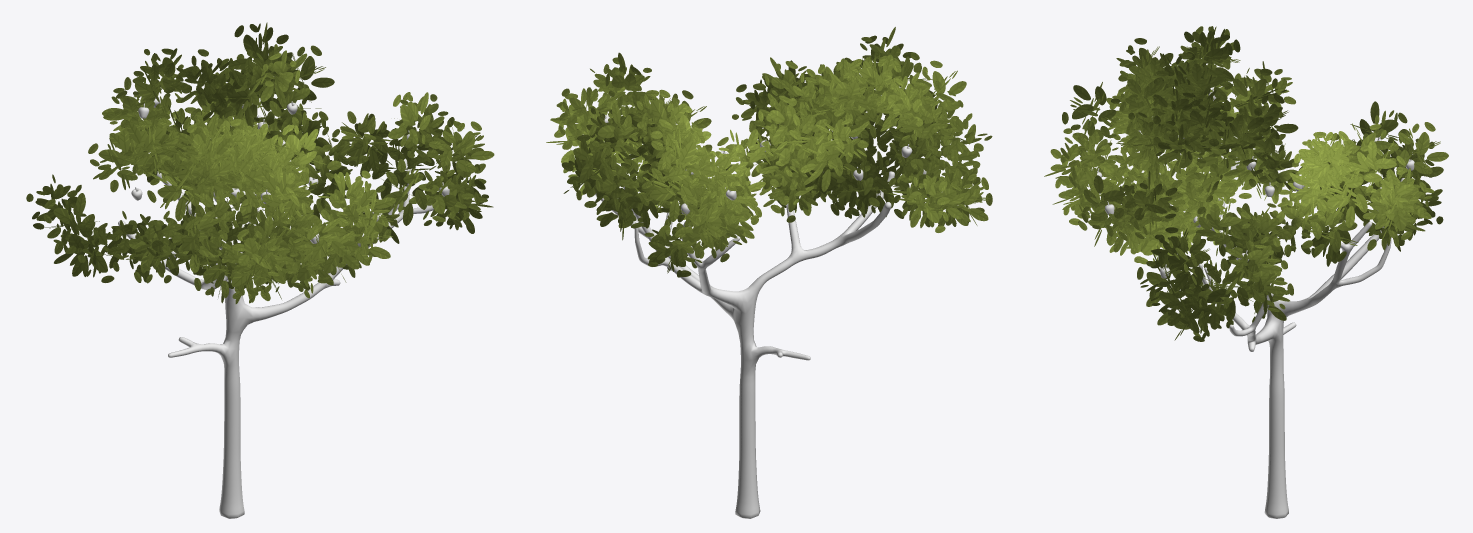
File: arvore_2.fbx
The picture shows the model from 3 angles, left to right: view 1: azimuth 30°, elevation 25°; view 2: azimuth 150°, elevation 25°; view 3: azimuth 270°, elevation 25°; orthographic projection. The views are drawn at different scales.
Visible parts, largest first — view 1: copa_2, tronco_2, maças_2; view 2: copa_2, tronco_2, maças_2; view 3: copa_2, tronco_2, maças_2.
Part boxes in pixels (x1=…): copa_2: x1=26, y1=22, x2=494, y2=303; tronco_2: x1=118, y1=115, x2=433, y2=518; maças_2: x1=131, y1=96, x2=449, y2=258; copa_2: x1=546, y1=27, x2=992, y2=277; tronco_2: x1=595, y1=171, x2=894, y2=518; maças_2: x1=604, y1=115, x2=926, y2=215; copa_2: x1=1044, y1=26, x2=1448, y2=341; tronco_2: x1=1147, y1=157, x2=1404, y2=518; maças_2: x1=1097, y1=88, x2=1414, y2=278.
Bounding box in the file's own units: 4896 × 4778 × 4167.
